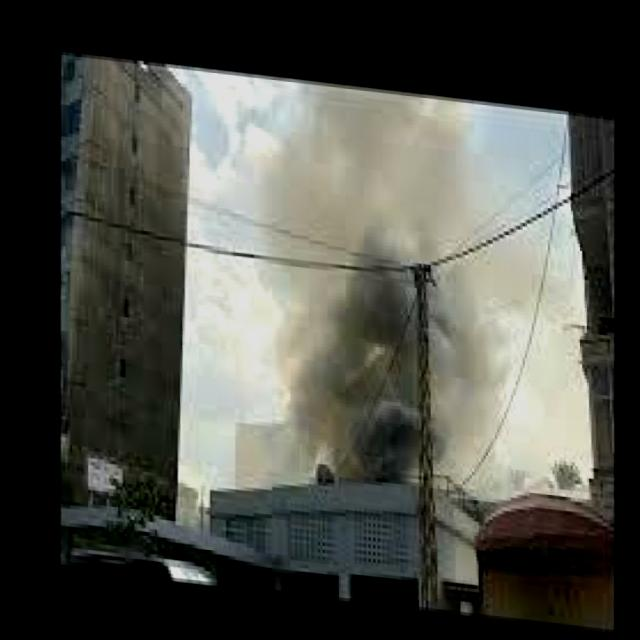Smoke: (255, 81, 519, 494)
